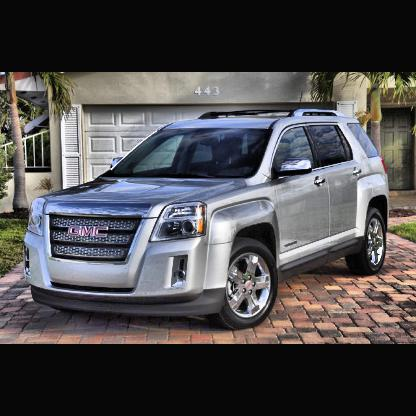GMC Terrain SUV 2012: (22, 107, 395, 333)
